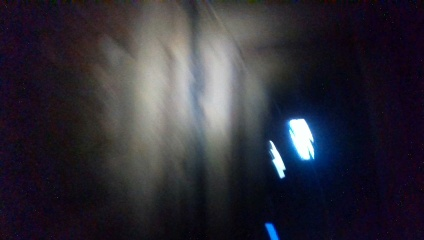cellphone: (260, 219, 282, 239)
